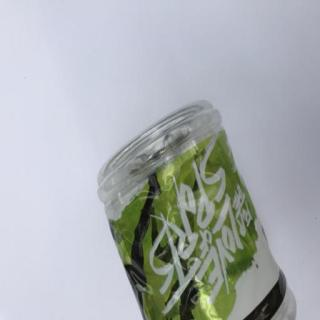Plastic-bottle: (96, 98, 298, 320)
